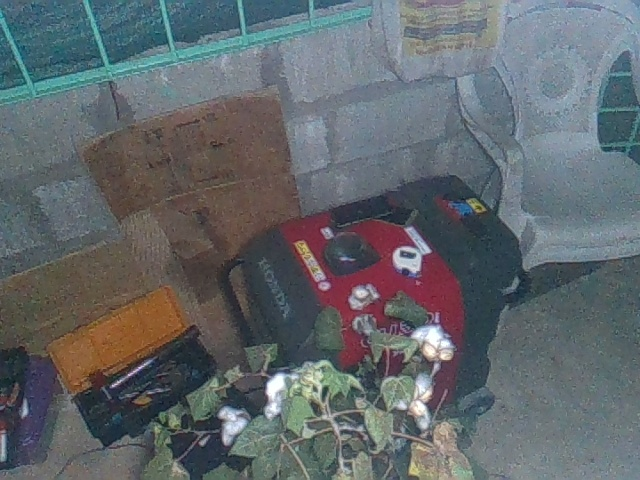cotton: (395, 371, 434, 432), (259, 369, 305, 420), (407, 322, 457, 363), (214, 406, 257, 447)
